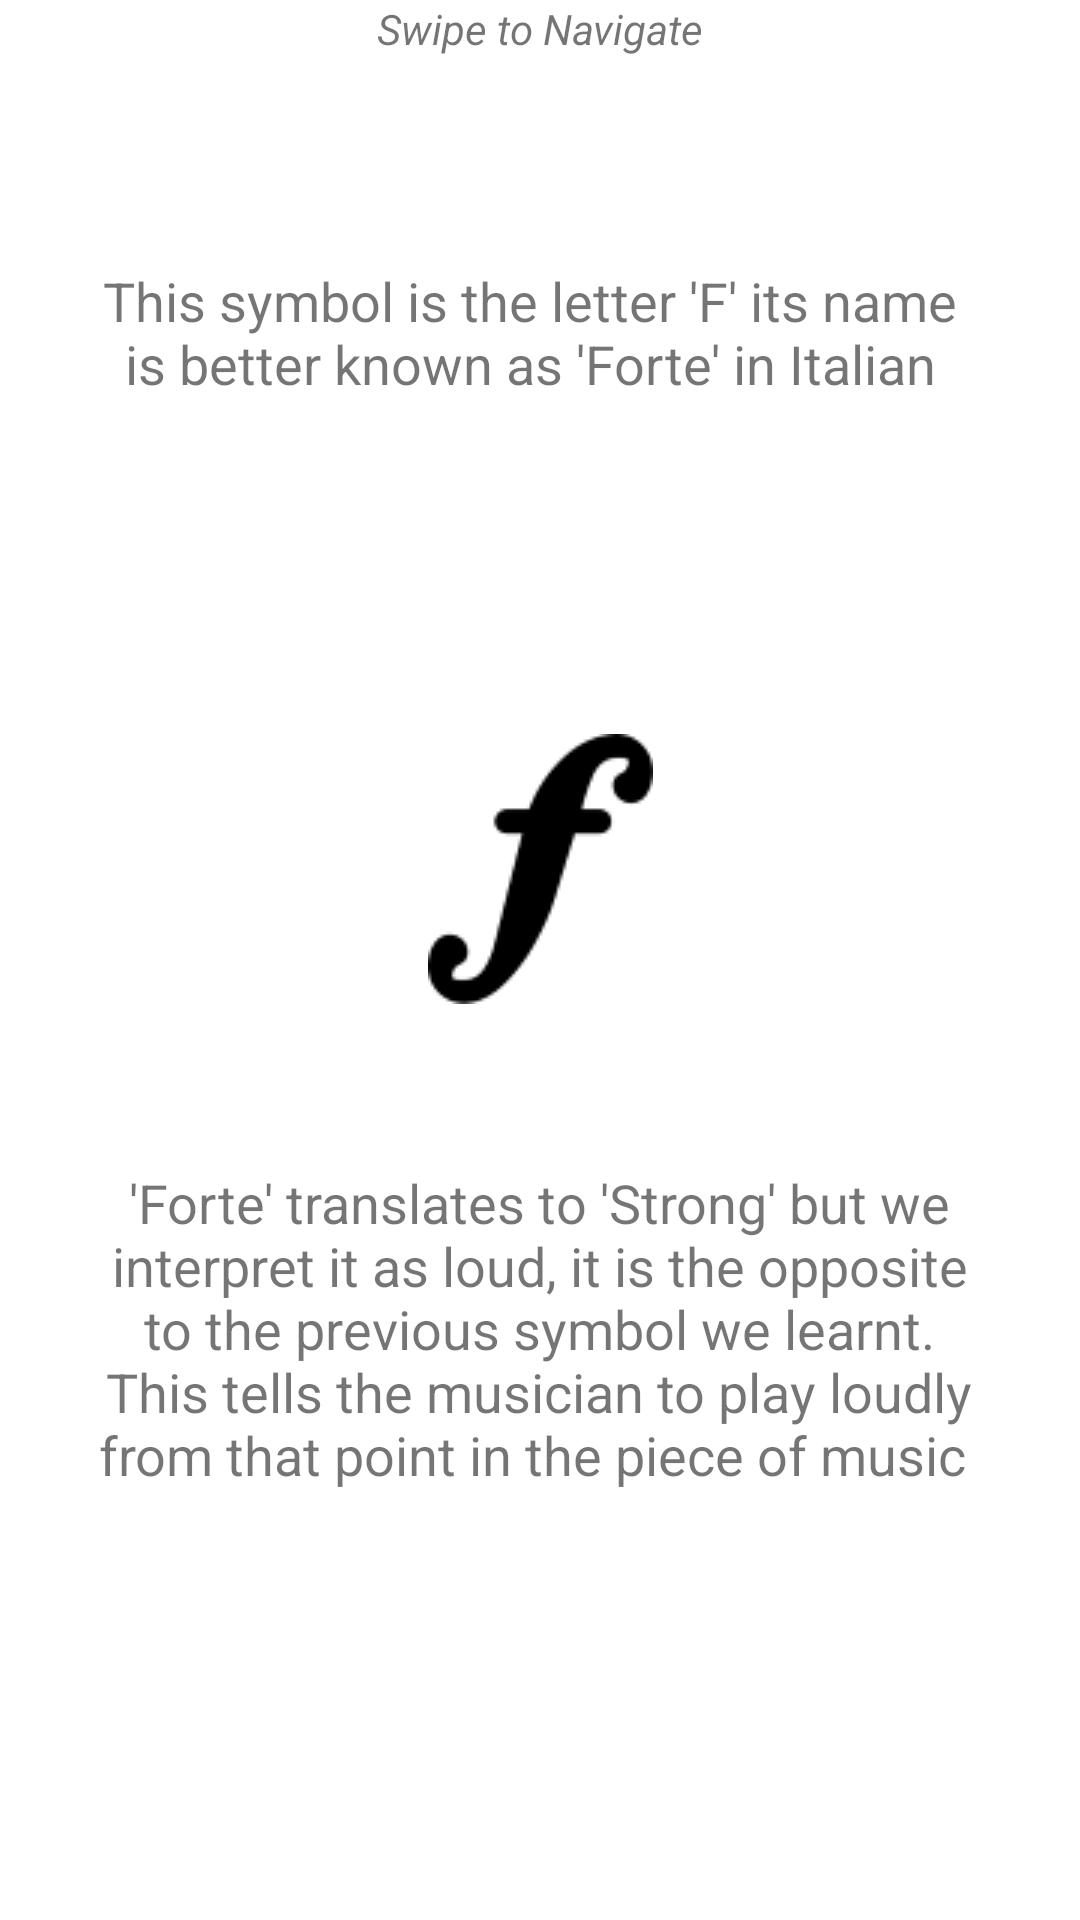

Named icons in this screenshot (1080×1920) and their centers, point (x, y):
forte dynamic marking: point (540, 869)
